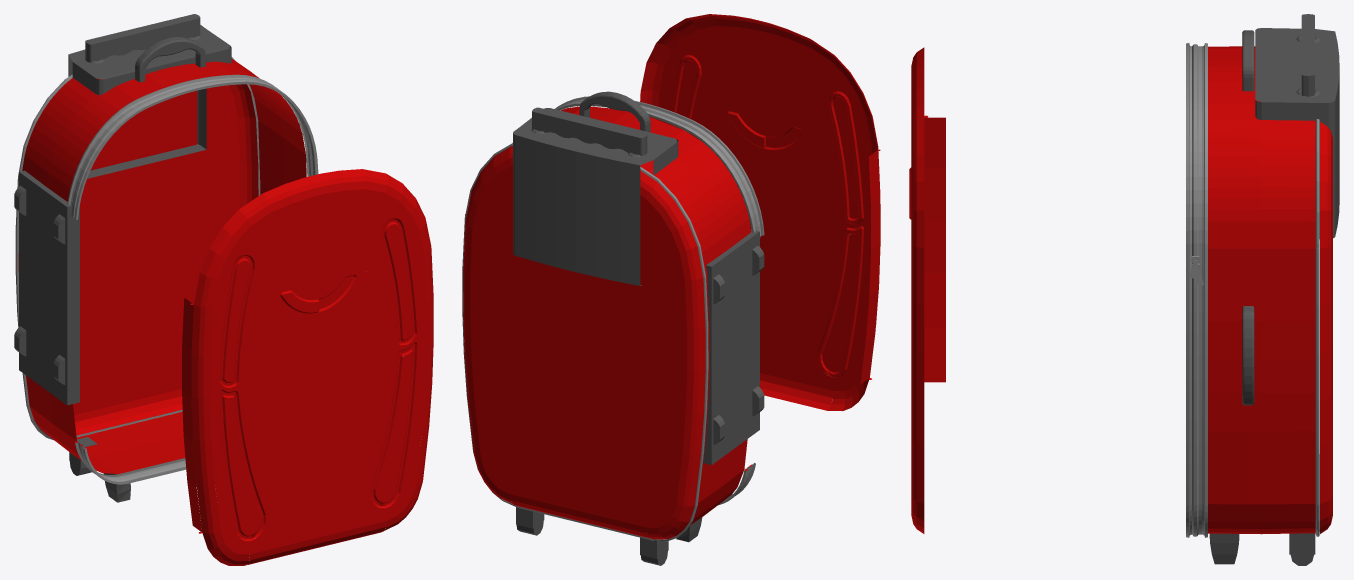
Rendered from bag_lid.dae.
3 renders of one model, left to right at view 1: azimuth 30°, elevation 25°; view 2: azimuth 150°, elevation 25°; view 3: azimuth 270°, elevation 25°, orthographic. The views are drawn at different scales.
Visible parts, largest first — view 1: group_0 (×9), Component_5 (×2), Component_6 (×4), Component_1 (×2); view 2: Component_5 (×2), group_0 (×8), Component_6 (×6), Component_1 (×2); view 3: Component_5 (×2), Component_6 (×6), Component_1 (×3), group_0 (×2).
Part boxes in pixels (x1=…): group_0 (×9): x1=182, y1=169, x2=433, y2=565; Component_5 (×2): x1=18, y1=58, x2=306, y2=473; Component_6 (×4): x1=19, y1=14, x2=231, y2=405; Component_1 (×2): x1=15, y1=57, x2=318, y2=484; Component_5 (×2): x1=463, y1=106, x2=751, y2=539; group_0 (×8): x1=640, y1=14, x2=880, y2=411; Component_6 (×6): x1=513, y1=91, x2=759, y2=565; Component_1 (×2): x1=464, y1=96, x2=764, y2=541; Component_5 (×2): x1=1208, y1=46, x2=1332, y2=534; Component_6 (×6): x1=1209, y1=14, x2=1339, y2=565; Component_1 (×3): x1=1186, y1=43, x2=1319, y2=537; group_0 (×2): x1=911, y1=47, x2=945, y2=533.
Size of the model in its own units: 17.36 by 20.7 by 26.16.
